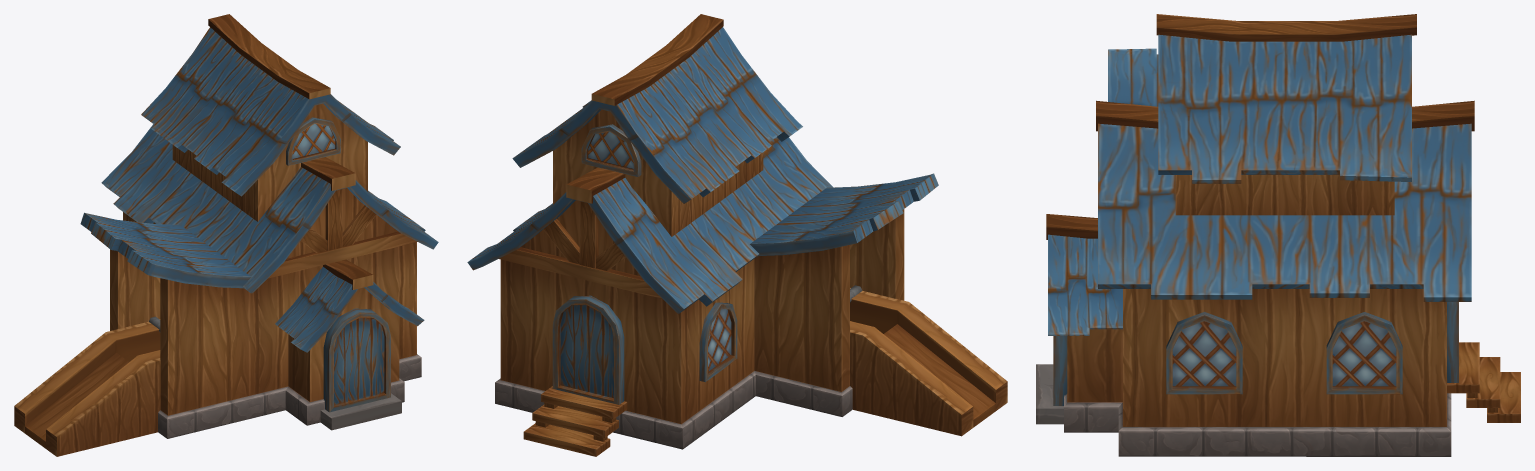
The model's file is Woodmill.FBX.
The picture shows the model from 3 angles, left to right: view 1: azimuth 30°, elevation 25°; view 2: azimuth 150°, elevation 25°; view 3: azimuth 270°, elevation 25°; orthographic projection. The views are drawn at different scales.
Parts seen in each view (by area): view 1: Woodmill; view 2: Woodmill; view 3: Woodmill.
Boxes of the visible parts, bbox=[...] form: Woodmill: bbox=[14, 14, 438, 456]; Woodmill: bbox=[467, 14, 1007, 456]; Woodmill: bbox=[1036, 14, 1520, 456].
Size of what is drawn, in the model's own units: 1141 by 997 by 866.
